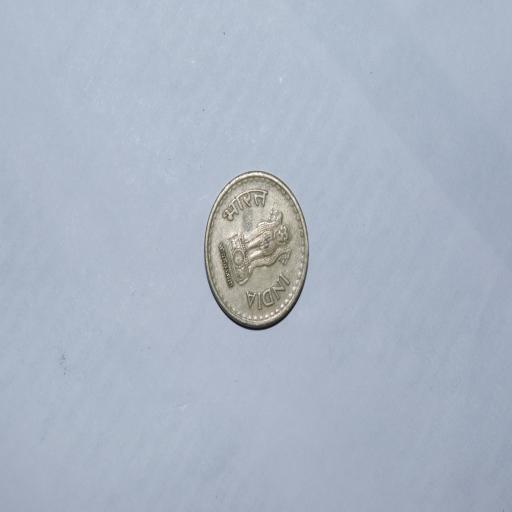rupee5: (199, 168, 309, 332)
